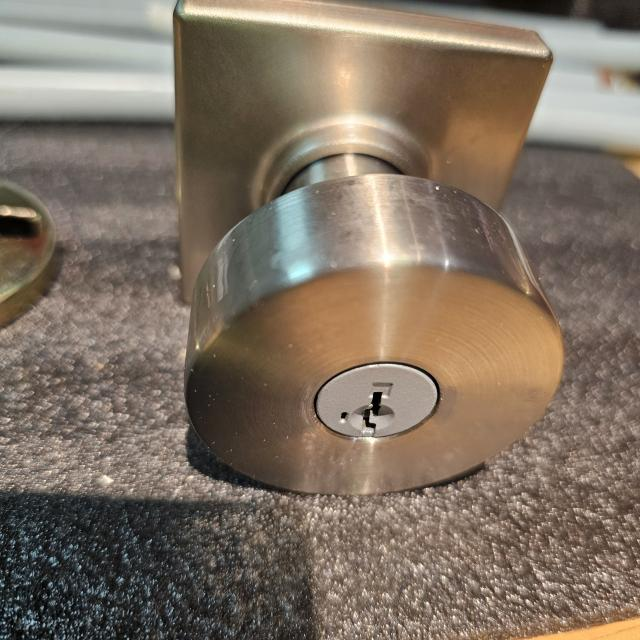door-knob: (174, 0, 564, 494)
